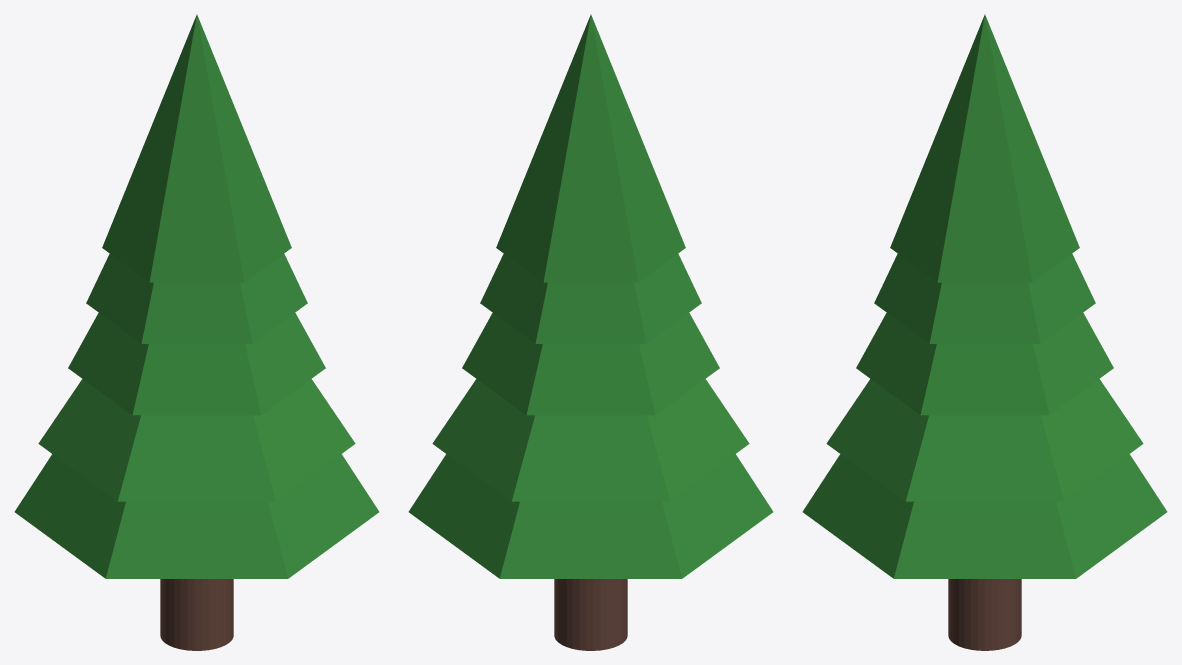
Rendered from tree3.fbx.
3 views of the same model, side by side, from view 1: azimuth 30°, elevation 25°; view 2: azimuth 150°, elevation 25°; view 3: azimuth 270°, elevation 25° (orthographic).
Parts seen in each view (by area): view 1: Cylinder; view 2: Cylinder; view 3: Cylinder.
Boxes of the visible parts, x1,y1,x2,y2 form: Cylinder: (14,14,379,650); Cylinder: (408,14,773,650); Cylinder: (802,14,1167,650).
Size of the model in its own units: 3.74 by 8.11 by 4.32.
